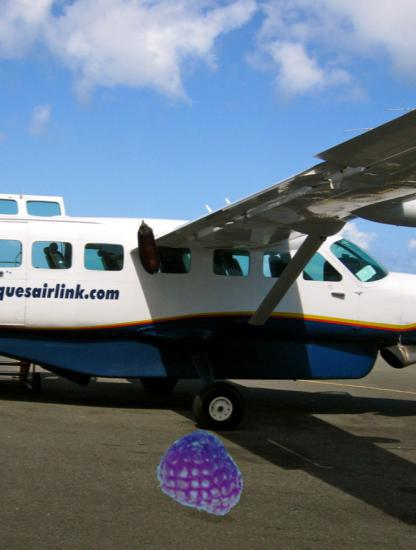Eggplant: (119, 219, 176, 276)
Raspberry: (155, 434, 244, 523)
